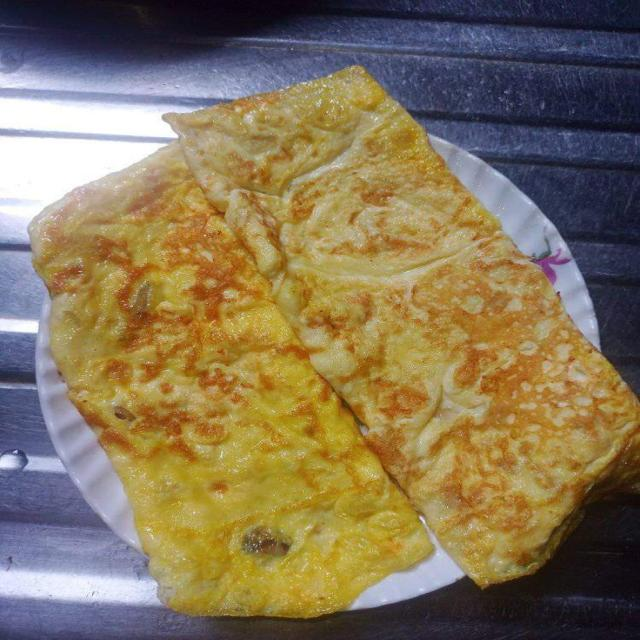omelette: (166, 68, 639, 585), (30, 143, 431, 617)
